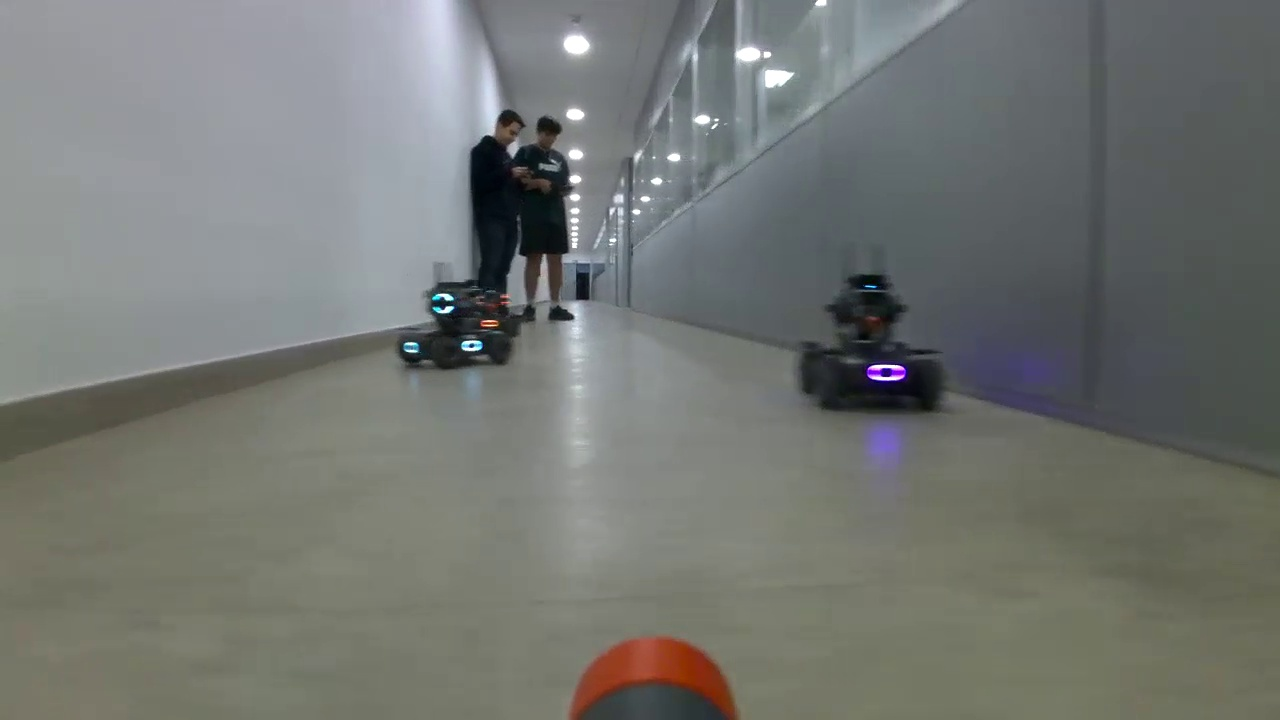robot: (795, 274, 946, 412), (397, 281, 513, 370), (468, 288, 524, 337)
